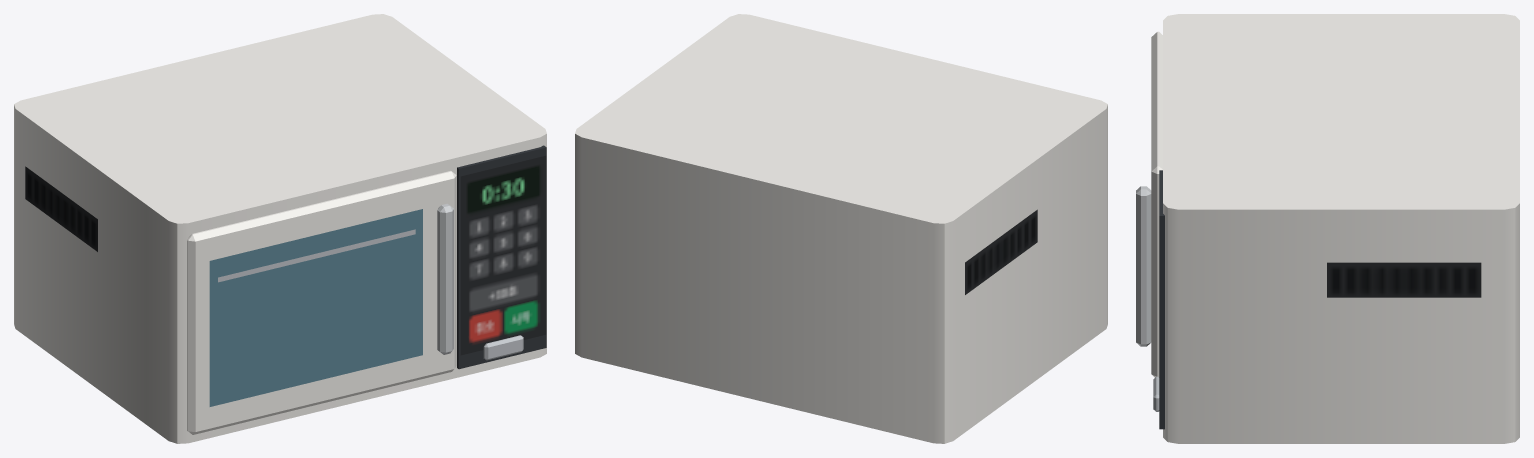
Rendered from SC_Fix_Microwave.gltf.
3 views of the same model, side by side, from view 1: azimuth 30°, elevation 25°; view 2: azimuth 150°, elevation 25°; view 3: azimuth 270°, elevation 25° (orthographic). The views are drawn at different scales.
Visible parts, largest first — view 1: SC_Fix_Microwave; view 2: SC_Fix_Microwave; view 3: SC_Fix_Microwave.
Boxes of the visible parts, box(x1,y1,x2,y2) form: SC_Fix_Microwave: box(14, 14, 546, 443); SC_Fix_Microwave: box(575, 14, 1107, 443); SC_Fix_Microwave: box(1136, 14, 1519, 443).
Size of the model in its own units: 0.4824 by 0.28 by 0.398.
2 materials, 2 textured.
